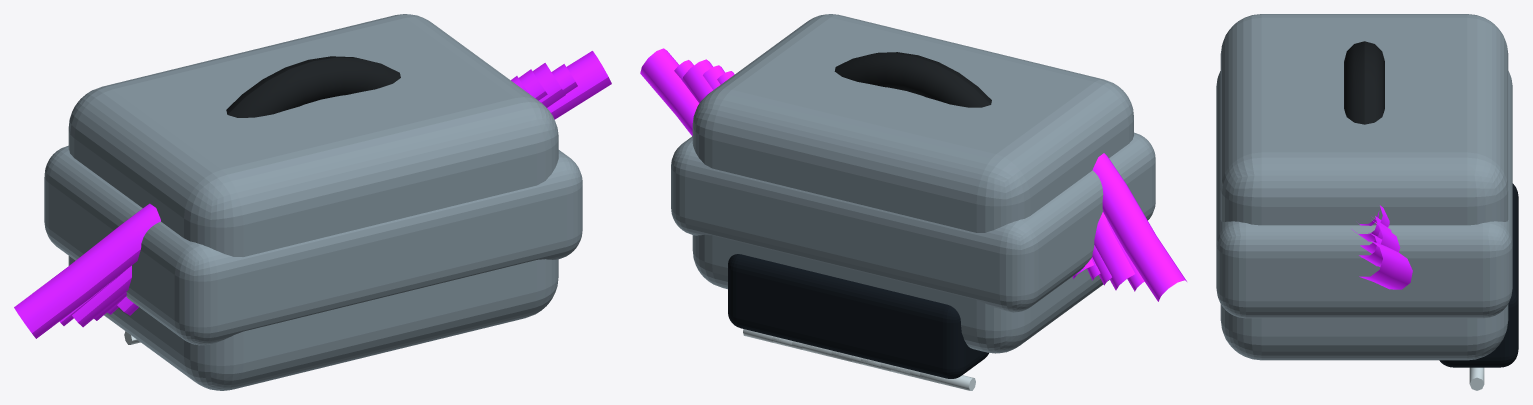
File: electrical_10.glb
The picture shows the model from 3 angles, left to right: view 1: azimuth 30°, elevation 25°; view 2: azimuth 150°, elevation 25°; view 3: azimuth 270°, elevation 25°; orthographic projection. The views are drawn at different scales.
Parts seen in each view (by area): view 1: asset_mesh__electrical_0440__reference_body, asset_mesh__electrical_0457__controller_case, asset_mesh__electrical_0431__current_path, asset_mesh__electrical_0455__service_element, asset_mesh__electrical_0473__current_path, asset_mesh__electrical_0474__current_path, asset_mesh__electrical_0436__current_path; view 2: asset_mesh__electrical_0440__reference_body, asset_mesh__electrical_0457__controller_case, asset_mesh__electrical_0457__connector_bank, asset_mesh__electrical_0431__current_path, asset_mesh__electrical_0455__service_element, asset_mesh__electrical_0473__current_path, asset_mesh__electrical_0436__current_path, asset_mesh__electrical_0474__current_path, asset_mesh__electrical_0457__pin_1; view 3: asset_mesh__electrical_0440__reference_body, asset_mesh__electrical_0457__controller_case, asset_mesh__electrical_0455__service_element, asset_mesh__electrical_0457__connector_bank, asset_mesh__electrical_0431__current_path, asset_mesh__electrical_0473__current_path, asset_mesh__electrical_0457__pin_7.
Boxes of the visible parts, <box> form: asset_mesh__electrical_0440__reference_body: <box>68,14,558,390</box>; asset_mesh__electrical_0457__controller_case: <box>44,145,582,345</box>; asset_mesh__electrical_0431__current_path: <box>14,51,611,338</box>; asset_mesh__electrical_0455__service_element: <box>226,56,400,117</box>; asset_mesh__electrical_0473__current_path: <box>72,63,565,327</box>; asset_mesh__electrical_0474__current_path: <box>59,64,577,325</box>; asset_mesh__electrical_0436__current_path: <box>94,69,547,320</box>; asset_mesh__electrical_0440__reference_body: <box>692,14,1133,353</box>; asset_mesh__electrical_0457__controller_case: <box>671,132,1155,312</box>; asset_mesh__electrical_0457__connector_bank: <box>728,254,988,378</box>; asset_mesh__electrical_0431__current_path: <box>640,48,1186,301</box>; asset_mesh__electrical_0455__service_element: <box>834,52,991,107</box>; asset_mesh__electrical_0473__current_path: <box>682,59,1135,290</box>; asset_mesh__electrical_0436__current_path: <box>703,65,1111,285</box>; asset_mesh__electrical_0474__current_path: <box>674,60,1144,291</box>; asset_mesh__electrical_0457__pin_1: <box>920,372,975,390</box>; asset_mesh__electrical_0440__reference_body: <box>1220,14,1508,360</box>; asset_mesh__electrical_0457__controller_case: <box>1216,71,1512,318</box>; asset_mesh__electrical_0455__service_element: <box>1344,41,1384,124</box>; asset_mesh__electrical_0457__connector_bank: <box>1439,183,1518,367</box>; asset_mesh__electrical_0431__current_path: <box>1359,241,1412,289</box>; asset_mesh__electrical_0473__current_path: <box>1359,220,1400,266</box>; asset_mesh__electrical_0457__pin_7: <box>1469,367,1484,390</box>.
Bounding box in the file's own units: 1.73 × 0.8267 × 0.8109.
